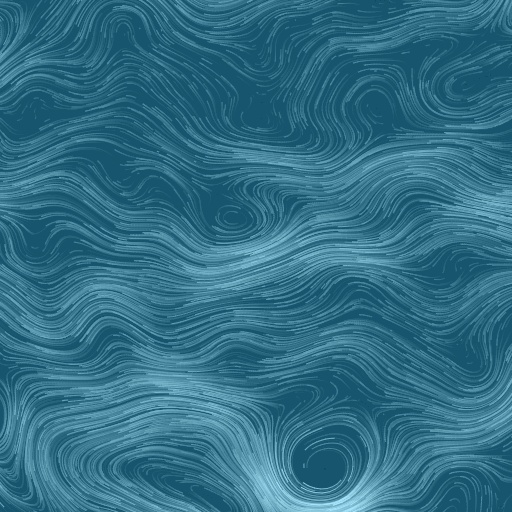eddy: (274, 423, 375, 507), (353, 84, 402, 133), (211, 203, 254, 235)
